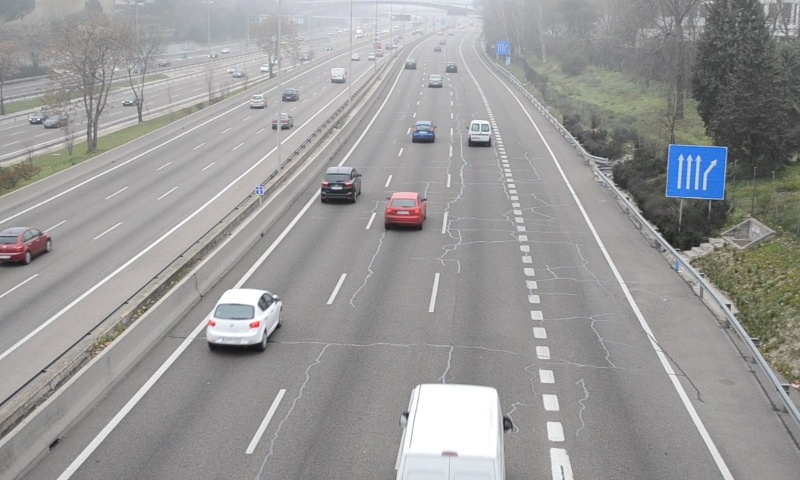car: (208, 288, 282, 345), (321, 166, 360, 201), (384, 192, 424, 226), (412, 120, 434, 145), (427, 73, 442, 88)
van: (394, 384, 506, 480), (468, 119, 492, 147)
